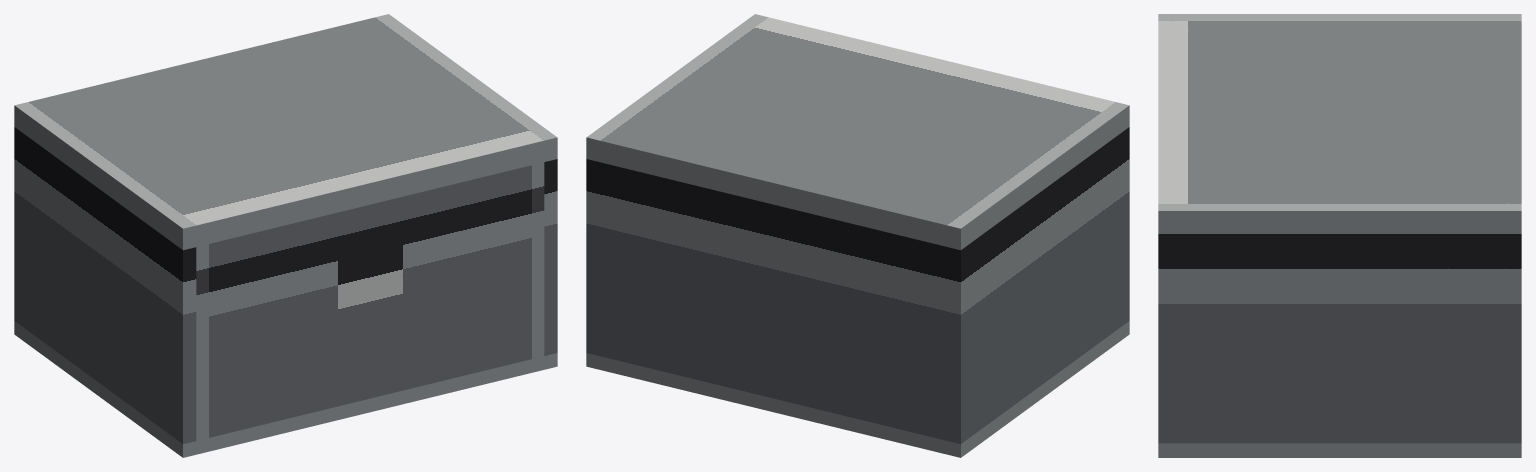
The model's file is metal_crate.glb.
3 views of the same model, side by side, from view 1: azimuth 30°, elevation 25°; view 2: azimuth 150°, elevation 25°; view 3: azimuth 270°, elevation 25° (orthographic). The views are drawn at different scales.
Parts seen in each view (by area): view 1: metal_crate_Body, metal_crate_Lid; view 2: metal_crate_Body, metal_crate_Lid; view 3: metal_crate_Body, metal_crate_Lid.
Part boxes in pixels (x1,y1,x2,y2): metal_crate_Body: (14, 127, 557, 457); metal_crate_Lid: (14, 14, 557, 250); metal_crate_Body: (586, 127, 1129, 457); metal_crate_Lid: (586, 14, 1129, 250); metal_crate_Body: (1158, 234, 1521, 457); metal_crate_Lid: (1158, 14, 1521, 233).
Size of the model in its own units: 1 by 0.585 by 0.78.
2 materials, 2 textured.
